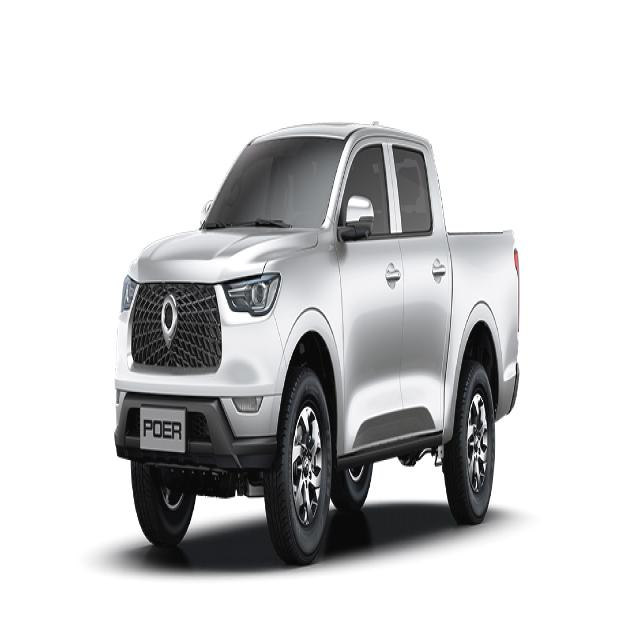CMT: (111, 116, 520, 552)
